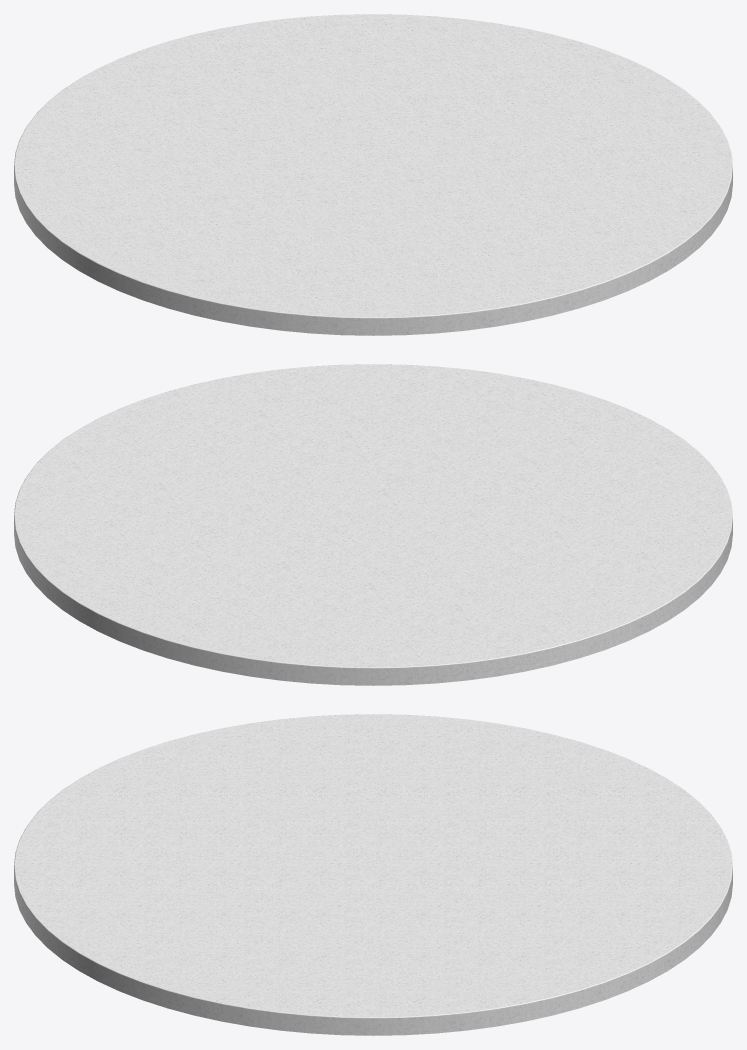
The model's file is addOn_PlatformConcrete.dae.
The picture shows the model from 3 angles, top to bottom: view 1: azimuth 30°, elevation 25°; view 2: azimuth 150°, elevation 25°; view 3: azimuth 270°, elevation 25°; orthographic projection.
Visible parts, largest first — view 1: addOn_ConcetePlatform (×2); view 2: addOn_ConcetePlatform (×2); view 3: addOn_ConcetePlatform (×2).
Boxes of the visible parts, x1,y1,x2,y2 form: addOn_ConcetePlatform (×2): (14, 14, 732, 335); addOn_ConcetePlatform (×2): (14, 364, 732, 685); addOn_ConcetePlatform (×2): (14, 714, 732, 1035).
Size of the model in its own units: 864 by 864 by 24.
Materials: 2 (2 with a texture image).
